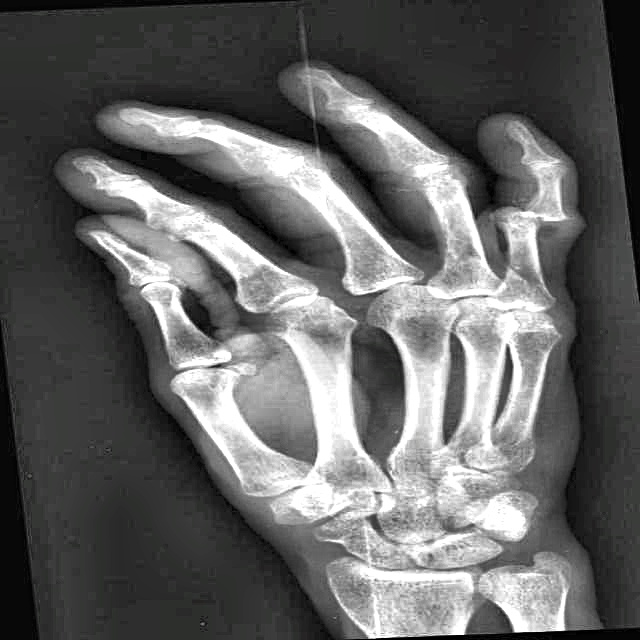Transverse: (493, 187, 596, 237)
